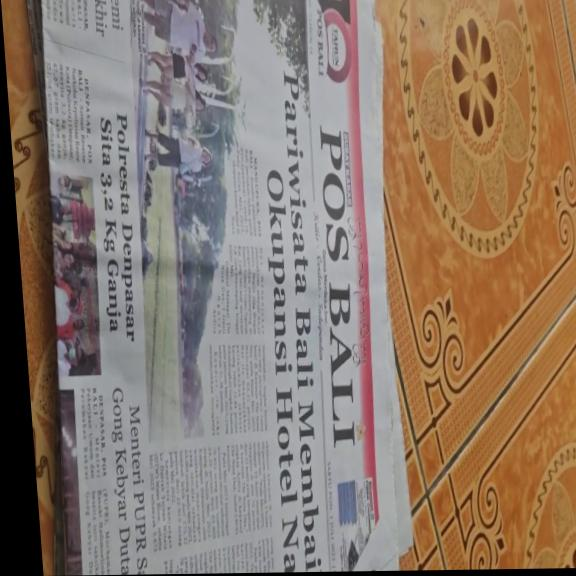Kertas: (25, 0, 415, 568)
